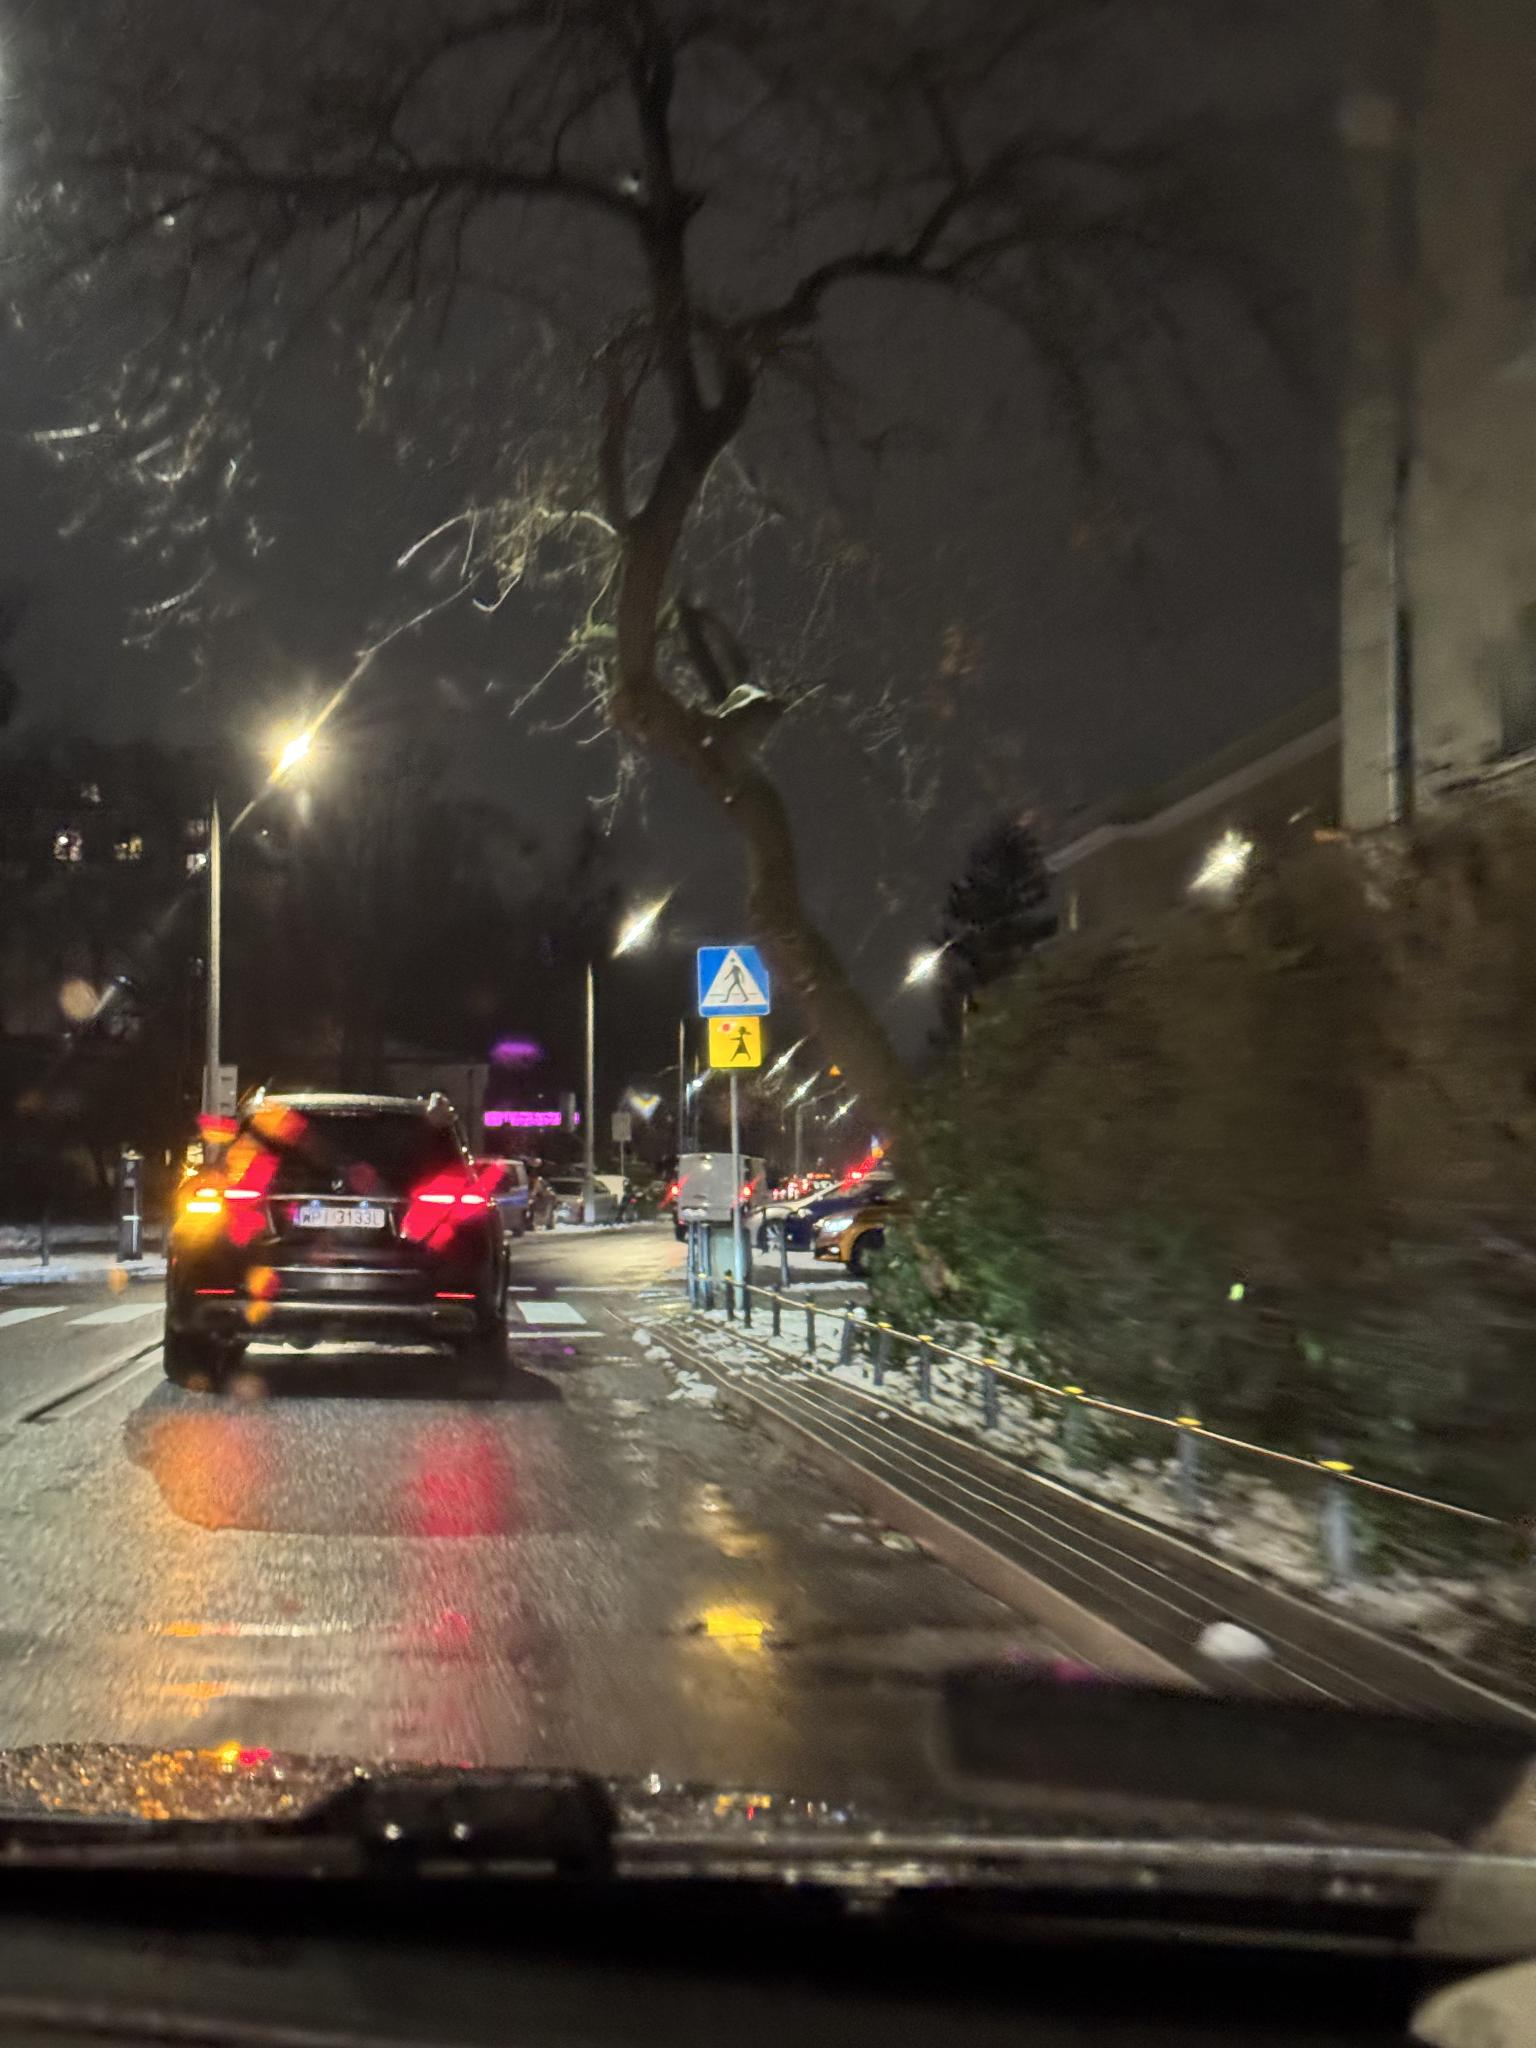information: (695, 943, 771, 1016)
other: (707, 1016, 763, 1069)
